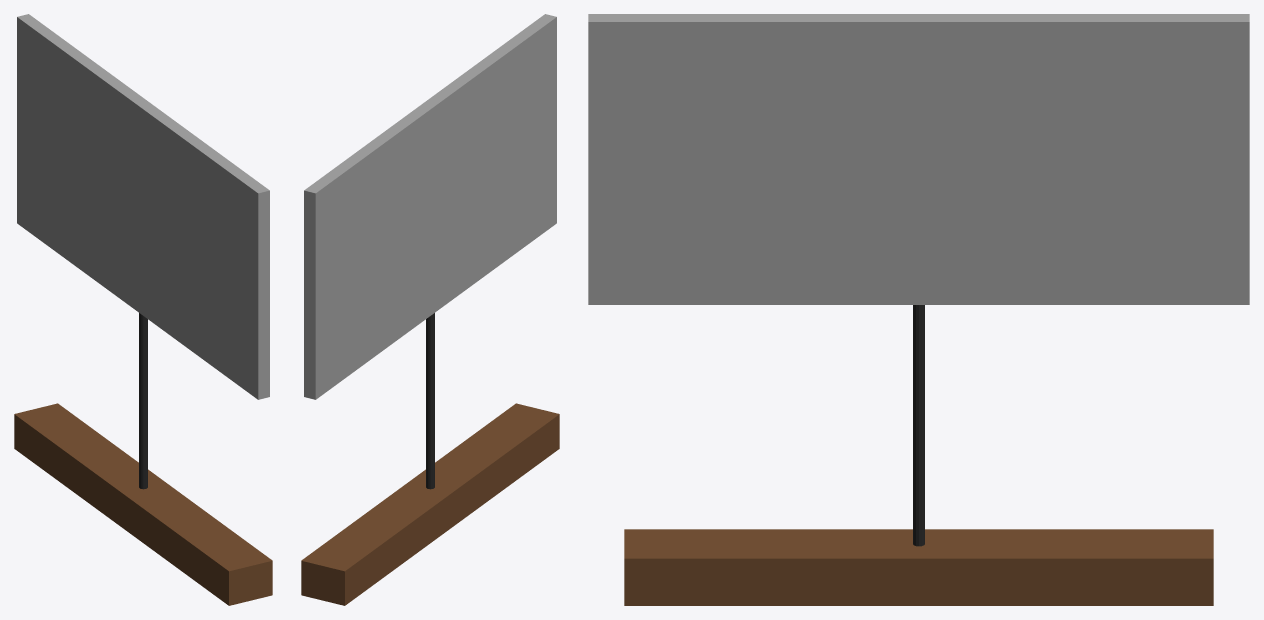
3 renders of one model, left to right at view 1: azimuth 30°, elevation 25°; view 2: azimuth 150°, elevation 25°; view 3: azimuth 270°, elevation 25°, orthographic. The views are drawn at different scales.
Parts seen in each view (by area): view 1: blank, stand; view 2: blank, stand; view 3: blank, stand.
Boxes of the visible parts, x1=… form: blank: x1=17, y1=14, x2=269, y2=399; stand: x1=14, y1=313, x2=272, y2=605; blank: x1=304, y1=14, x2=556, y2=399; stand: x1=301, y1=313, x2=559, y2=605; blank: x1=588, y1=14, x2=1249, y2=304; stand: x1=624, y1=305, x2=1213, y2=605.
Size of the model in its own units: 27.34 by 250 by 261.
